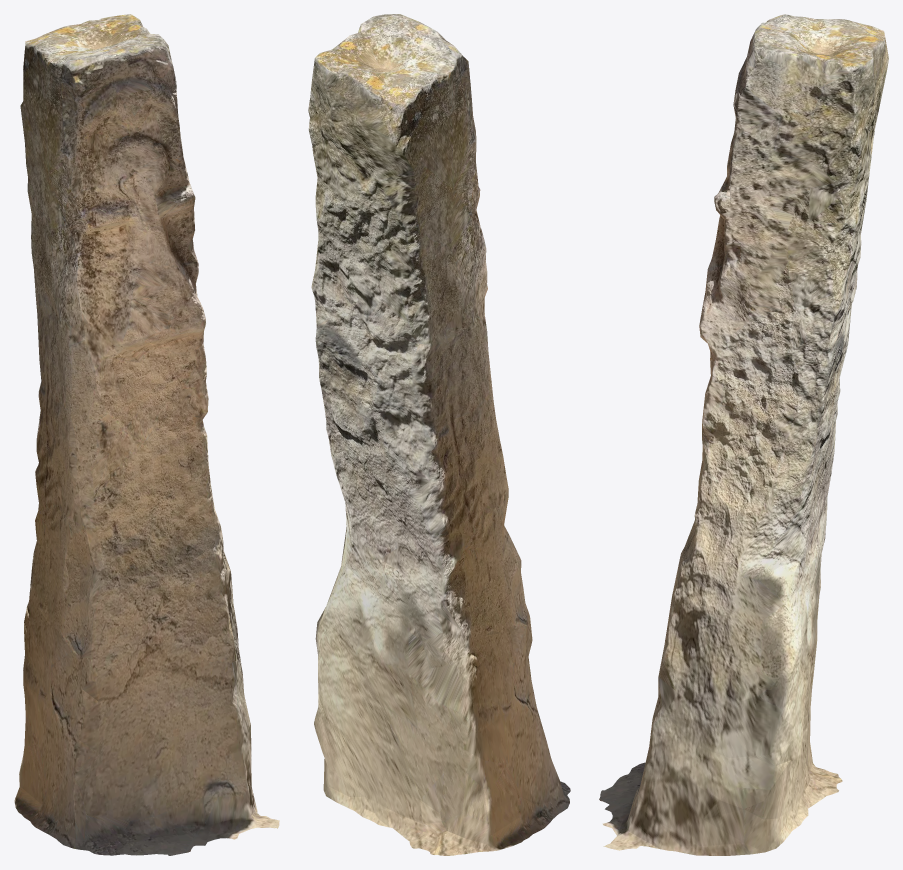
Rendered from tanit-stela-tophet-of-salammbo-carthage.glb.
3 renders of one model, left to right at view 1: azimuth 30°, elevation 25°; view 2: azimuth 150°, elevation 25°; view 3: azimuth 270°, elevation 25°, orthographic. The views are drawn at different scales.
Visible parts, largest first — view 1: TanitStelae_target_TanitStelae_MAT_0; view 2: TanitStelae_target_TanitStelae_MAT_0; view 3: TanitStelae_target_TanitStelae_MAT_0.
Part boxes in pixels (<box>): TanitStelae_target_TanitStelae_MAT_0: <box>14,14,279,855</box>; TanitStelae_target_TanitStelae_MAT_0: <box>308,14,570,855</box>; TanitStelae_target_TanitStelae_MAT_0: <box>599,14,888,855</box>.
Size of the model in its own units: 0.2813 by 0.981 by 0.3299.
1 material, 1 textured.
